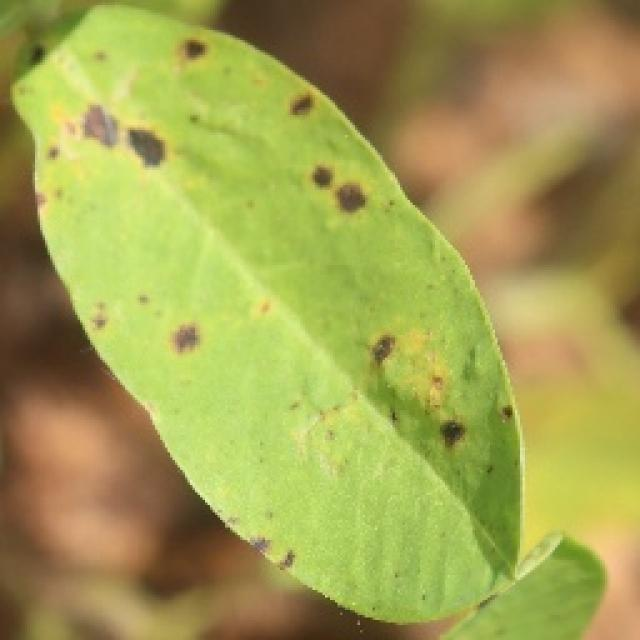Yellowish: (33, 24, 501, 640)
